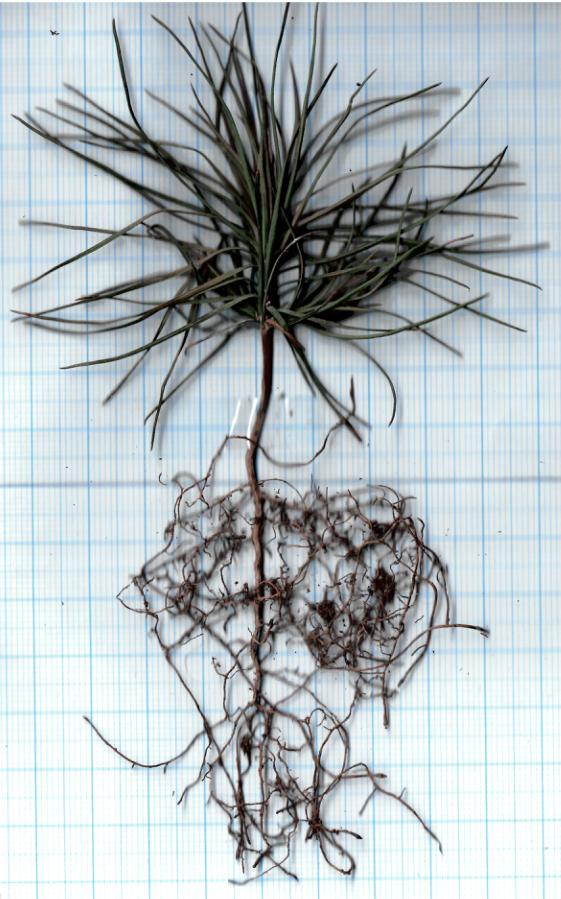flower: (8, 12, 550, 397)
root: (118, 466, 462, 884)
stem: (240, 336, 282, 476)
